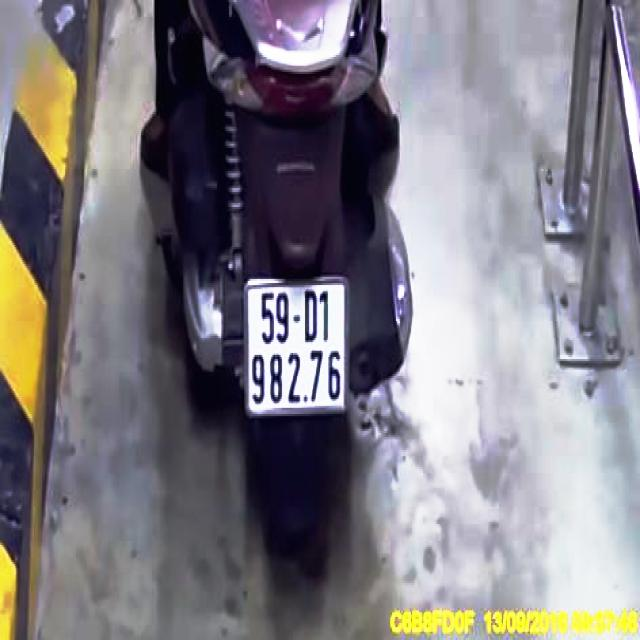license_plate: (245, 277, 348, 416)
